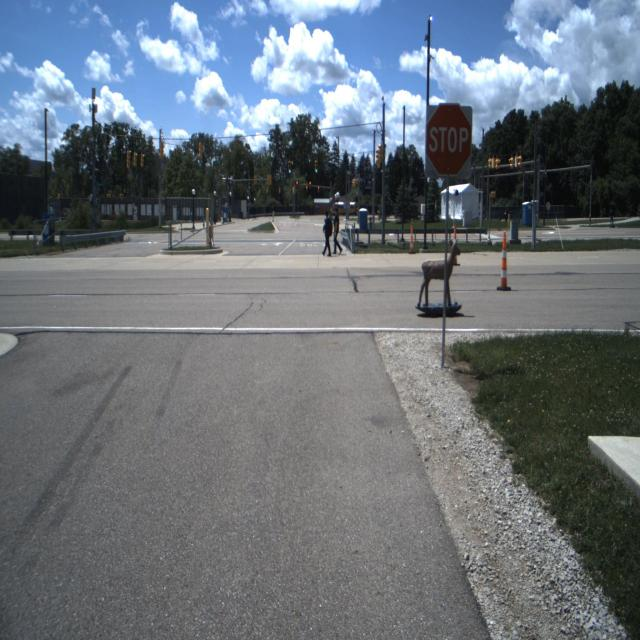Deer: (419, 238, 461, 305)
